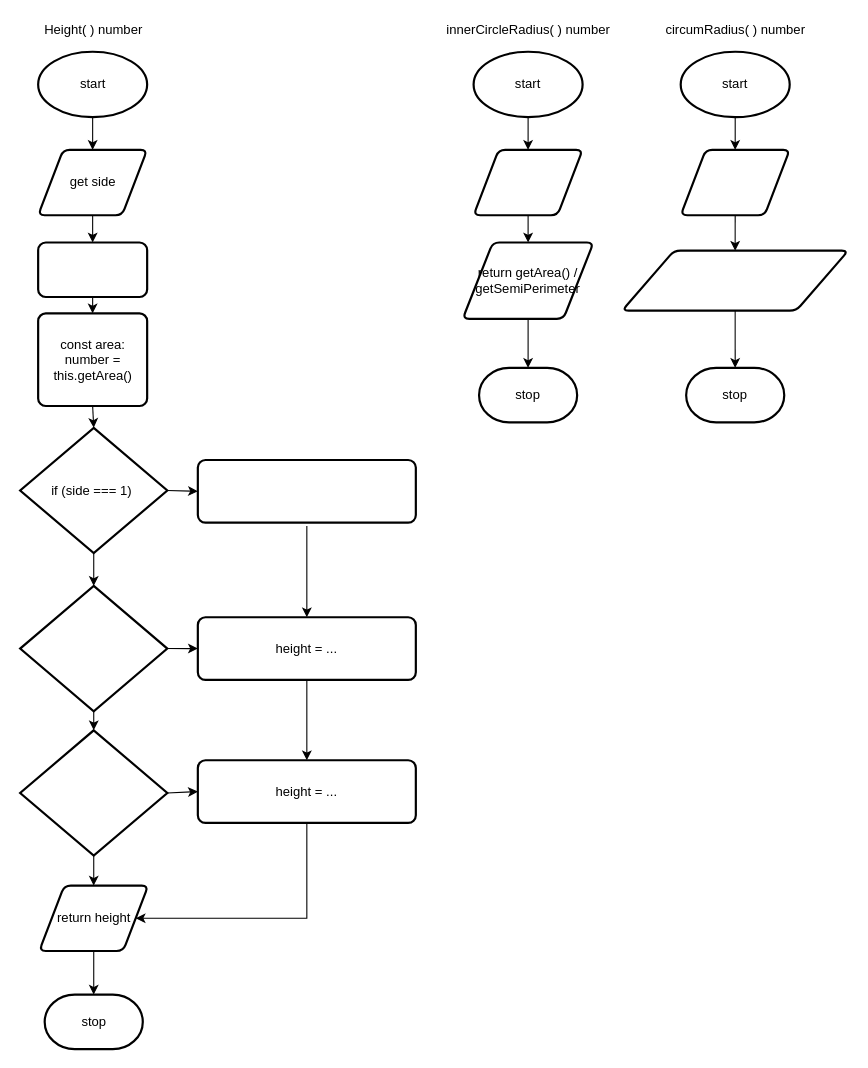
Image size: 868x1068. Some labels were removed from this diagram. Here are the shapes that lost their labels. From the top down, the centre of each, then its label:
At point 527,182: "get Perimeter() & area()".
At point 734,182: "get Area(), side1, side2, side3".
At point 92,269: "let angle: number".
At point 734,280: "return (this.side1 * this.side2 * this.side3) / (4 * getArea()".
At point 306,490: "height = (2* area) / this.side1".
At point 93,648: "if (side === 2)".
At point 93,792: "if (side === 3)".
